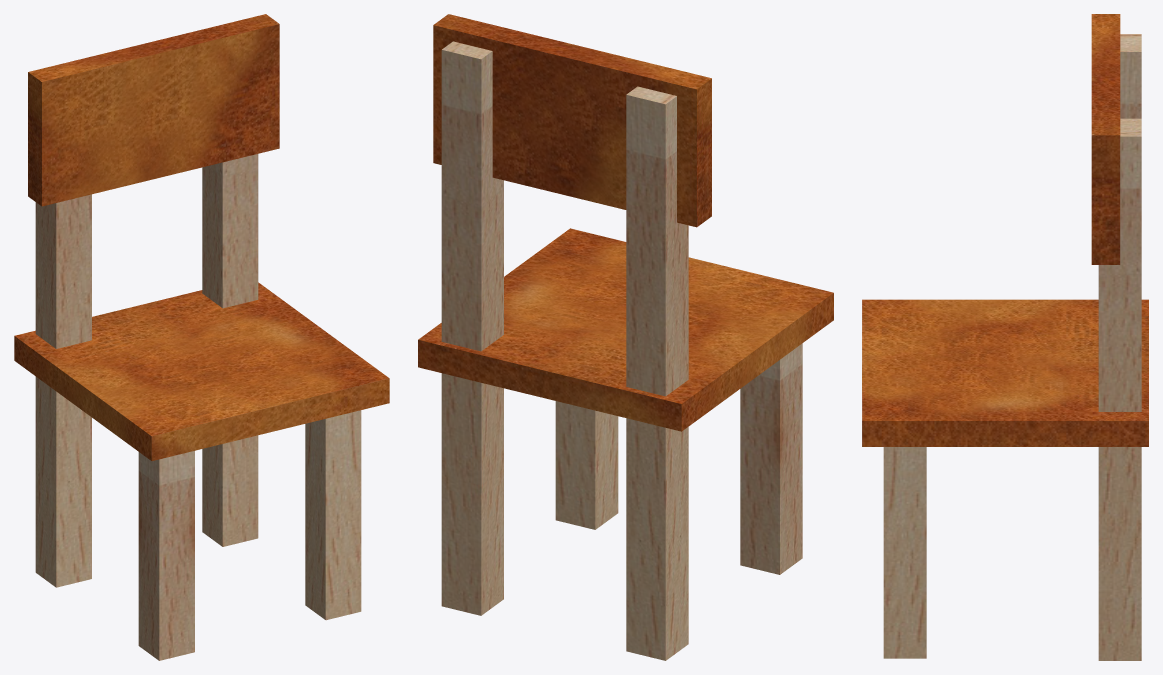
Rendered from Chair.fbx.
The picture shows the model from 3 angles, left to right: view 1: azimuth 30°, elevation 25°; view 2: azimuth 150°, elevation 25°; view 3: azimuth 270°, elevation 25°; orthographic projection. The views are drawn at different scales.
Parts seen in each view (by area): view 1: polySurface1; view 2: polySurface1; view 3: polySurface1.
Part boxes in pixels (box(x1,y1,x2,y2)): polySurface1: box(14, 14, 389, 660); polySurface1: box(418, 14, 833, 660); polySurface1: box(862, 14, 1148, 660).
Bounding box in the file's own units: 20 × 41.17 × 20.
